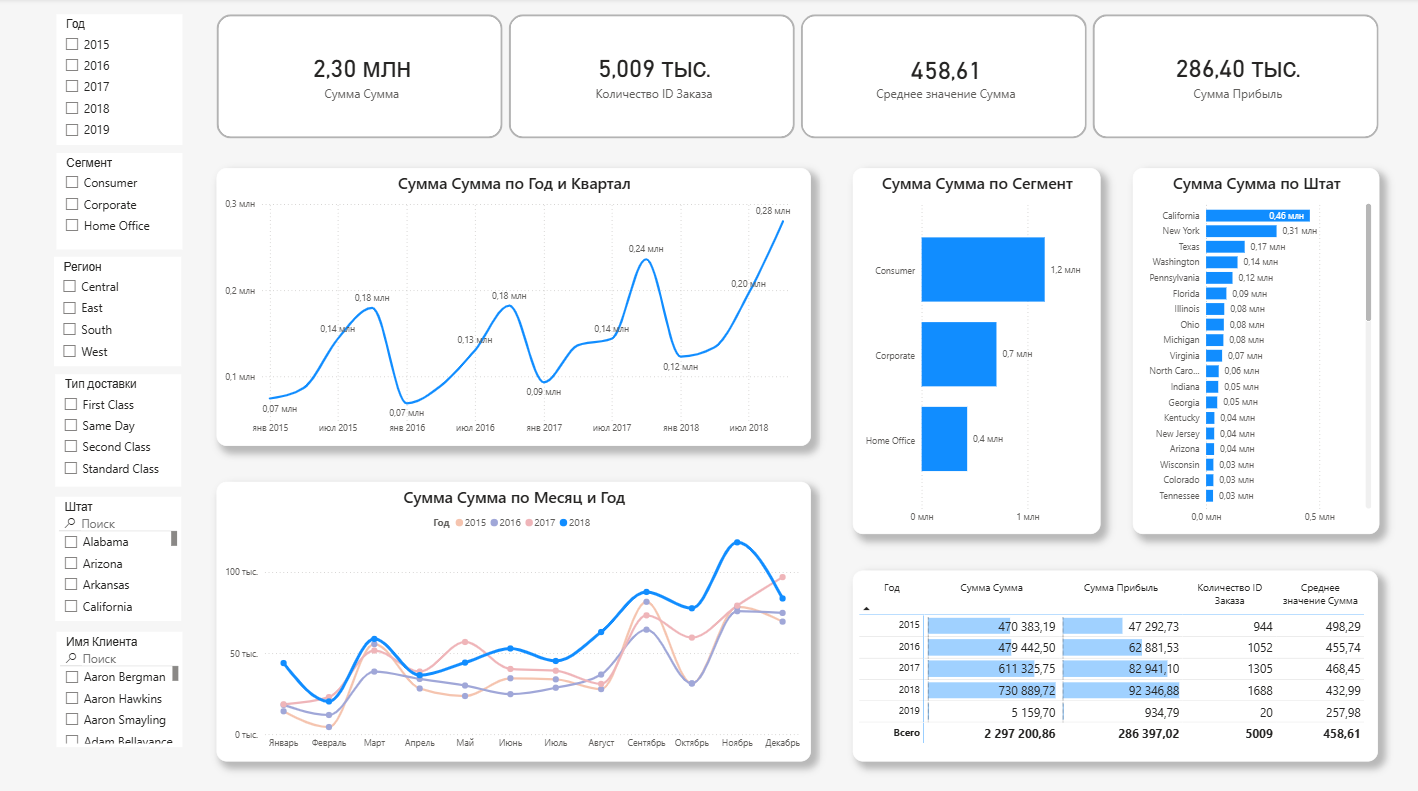

The dashboard page shown, as its layout file describes it:
{"tool":"powerbi","page":{"name":"Страница 1","canvas":[1920,1080],"ordinal":0},"visuals":[{"type":"cardVisual","fields":{"Data":["Sum(Продажи.Сумма)","CountNonNull(Продажи.ID Заказа)","Avg(Продажи.Сумма)","Sum(Продажи.Прибыль)"]},"box":[294,22,1574,168],"z":0},{"type":"clusteredBarChart","fields":{"Category":["Продажи.Сегмент"],"Y":["Sum(Продажи.Сумма)"]},"box":[1155.4,230.8,335.4,495.4],"z":1000},{"type":"lineChart","fields":{"Category":["Продажи.Дата покупки.Изменение.Иерархия дат.Месяц"],"Y":["Sum(Продажи.Сумма)"],"Series":["Продажи.Дата покупки.Изменение.Иерархия дат.Год"]},"box":[294,654,804,378],"z":2000},{"type":"lineChart","fields":{"Category":["Продажи.Дата покупки.Изменение.Иерархия дат.Год","Продажи.Дата покупки.Изменение.Иерархия дат.Квартал","Продажи.Дата покупки.Изменение.Иерархия дат.Месяц","Продажи.Дата покупки.Изменение.Иерархия дат.День"],"Y":["Sum(Продажи.Сумма)"]},"box":[294,230,804,376],"z":3000},{"type":"slicer","fields":{"Values":["Продажи.Регион"]},"box":[74,349.2,172,148],"z":4000},{"type":"slicer","fields":{"Values":["Продажи.Сегмент"]},"box":[78,209.2,170,130],"z":5000},{"type":"slicer","fields":{"Values":["Продажи.Штат"]},"box":[76,675.2,170,168],"z":6000},{"type":"slicer","fields":{"Values":["Продажи.Тип доставки"]},"box":[76,509.2,170,152],"z":7000},{"type":"slicer","fields":{"Values":["Продажи.Имя Клиента"]},"box":[78,857.2,170,156],"z":8000},{"type":"clusteredBarChart","fields":{"Category":["Продажи.Штат"],"Y":["Sum(Продажи.Сумма)"]},"box":[1533.8,230.8,333.8,495.4],"z":9000},{"type":"pivotTable","fields":{"Rows":["Продажи.Дата доставки.Изменение.Иерархия дат.Год"],"Values":["Sum(Продажи.Сумма)","Sum(Продажи.Прибыль)","Count(Продажи.ID Заказа)","Avg(Продажи.Сумма)"]},"box":[1155.4,773.8,710.8,258.5],"z":10000},{"type":"slicer","fields":{"Values":["Продажи.Дата доставки.Изменение.Иерархия дат.Год"]},"box":[77.8,22.2,170.4,176.5],"z":11000}]}

Visuals, with their boxes in screenshot pixels (x1, y1, x2, y2), scaled from the page's 1920x1080 canvas onto the 1418x791 screenshot:
cardVisual - Sum(Продажи.Сумма) x CountNonNull(Продажи.ID Заказа): <bbox>217, 16, 1380, 139</bbox>
clusteredBarChart - Продажи.Сегмент x Sum(Продажи.Сумма): <bbox>853, 169, 1101, 532</bbox>
lineChart - Продажи.Дата покупки.Изменение.Иерархия дат.Месяц x Sum(Продажи.Сумма): <bbox>217, 479, 811, 756</bbox>
lineChart - Продажи.Дата покупки.Изменение.Иерархия дат.Год x Продажи.Дата покупки.Изменение.Иерархия дат.Квартал: <bbox>217, 168, 811, 444</bbox>
slicer - Продажи.Регион: <bbox>55, 256, 182, 364</bbox>
slicer - Продажи.Сегмент: <bbox>58, 153, 183, 248</bbox>
slicer - Продажи.Штат: <bbox>56, 495, 182, 618</bbox>
slicer - Продажи.Тип доставки: <bbox>56, 373, 182, 484</bbox>
slicer - Продажи.Имя Клиента: <bbox>58, 628, 183, 742</bbox>
clusteredBarChart - Продажи.Штат x Sum(Продажи.Сумма): <bbox>1133, 169, 1379, 532</bbox>
pivotTable - Продажи.Дата доставки.Изменение.Иерархия дат.Год x Sum(Продажи.Сумма): <bbox>853, 567, 1378, 756</bbox>
slicer - Продажи.Дата доставки.Изменение.Иерархия дат.Год: <bbox>57, 16, 183, 146</bbox>
